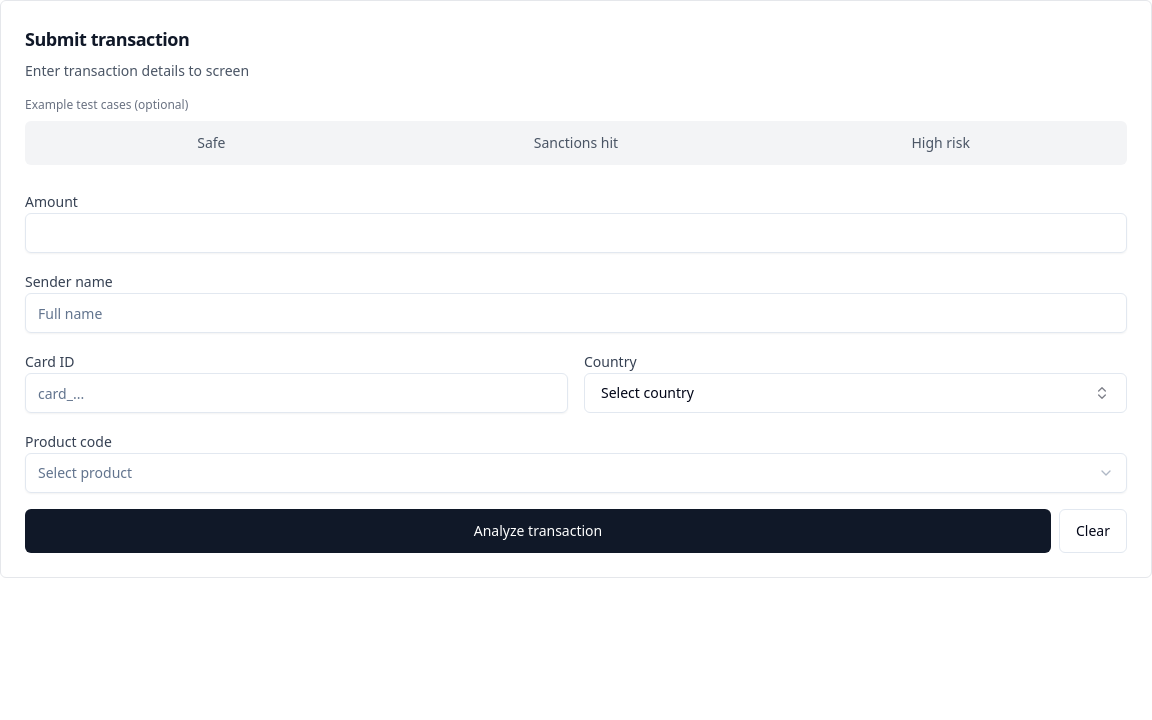
Test: TransactionForm › Preset Tabs › fills form with Sanctions preset values when Sanctions tab is clicked
Click the tab "Sanctions hit": (576,143) [394,125,758,161]
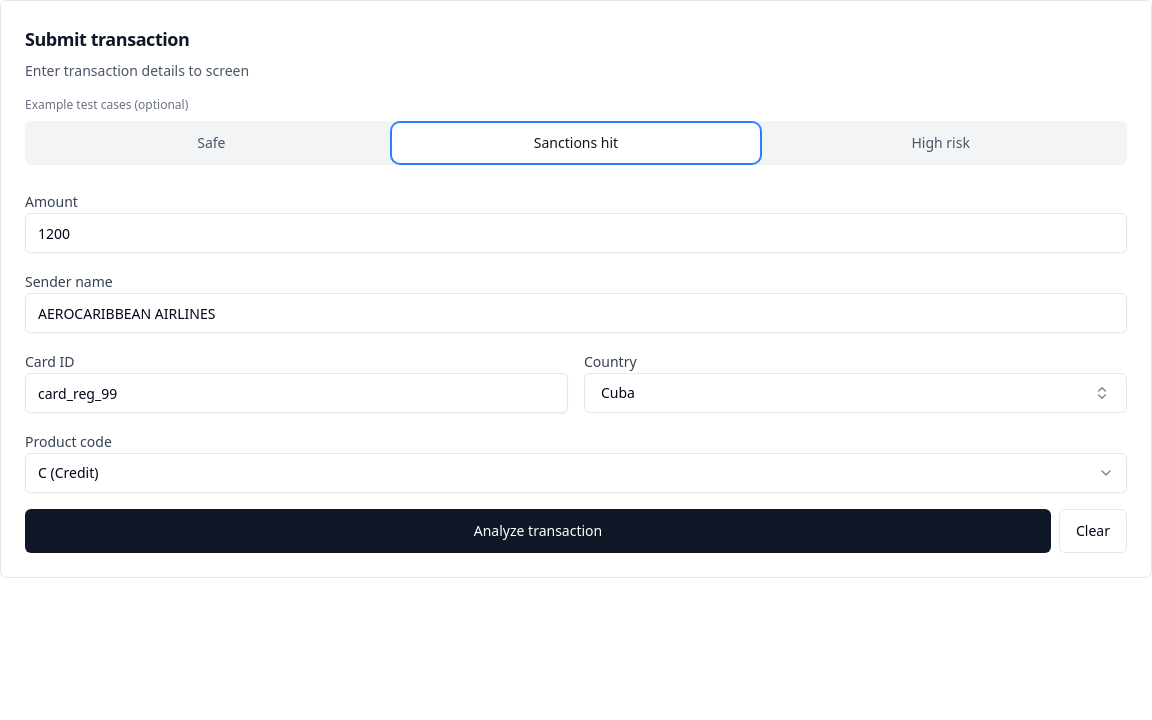
Check: the number field labelled "Amount" holds "1200", box [25,213,1127,253]
Check: the field labelled "Sender name" holds "AEROCARIBBEAN AIRLINES", box [25,293,1127,333]
Check: the field labelled "Card ID" holds "card_reg_99", box [25,373,568,413]
